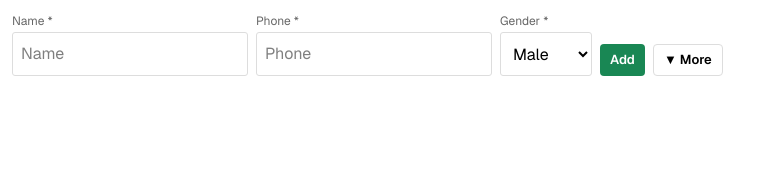
Test: ContactForm › collapses optional fields after submission
The image size is (757, 172).
Show optional fields
Click the button "▼ More" at (688, 60), box left=653, top=44, right=723, bottom=76
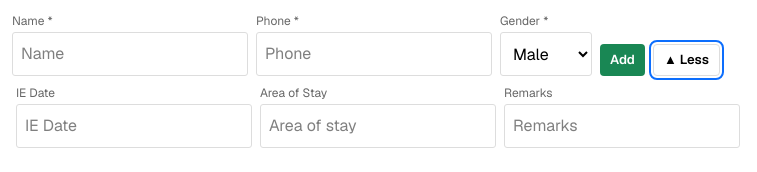
expect the field with placeholder "Area of stay" is shown: met, box left=260, top=104, right=496, bottom=148
Fill and submit
Type "Test" into the field with placeholder "Name" at (130, 54), box left=12, top=32, right=248, bottom=76
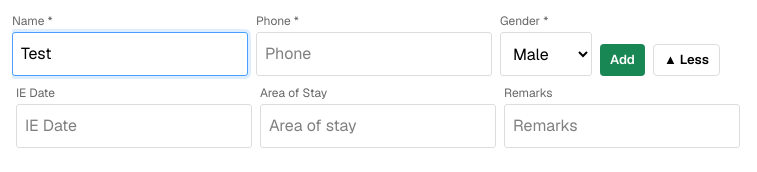
Type "1234567890" into the field with placeholder "Phone" at (374, 54), box left=256, top=32, right=492, bottom=76
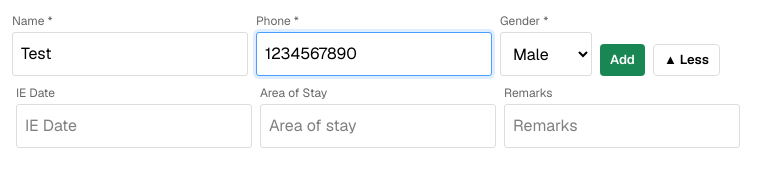
Click the button "Add" at (622, 60), box left=600, top=44, right=645, bottom=76
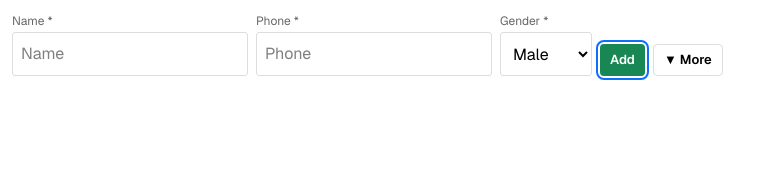
expect the label with placeholder "Area of Stay" is gone: met
